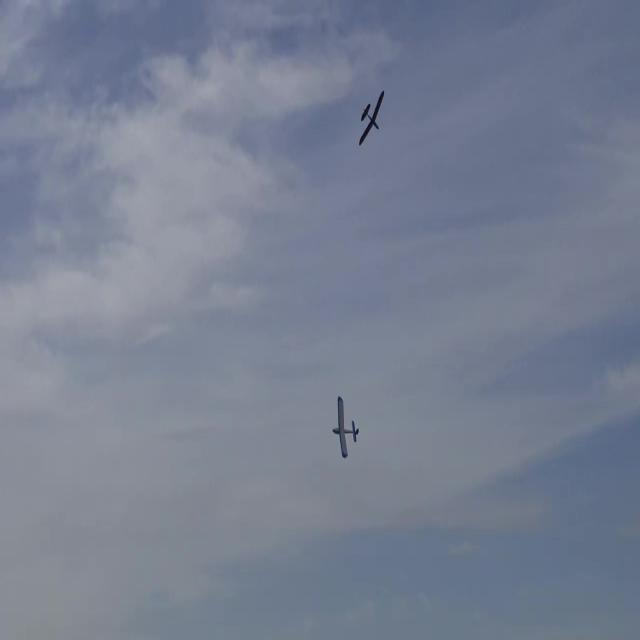iha: (357, 25, 385, 82)
